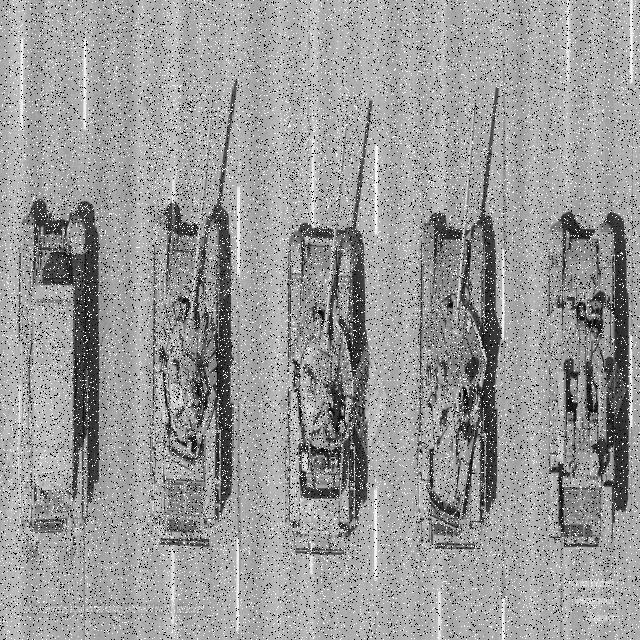MIL_MBT: (147, 85, 233, 553), (286, 94, 362, 569), (413, 101, 492, 557), (14, 200, 90, 562), (543, 205, 618, 564)
